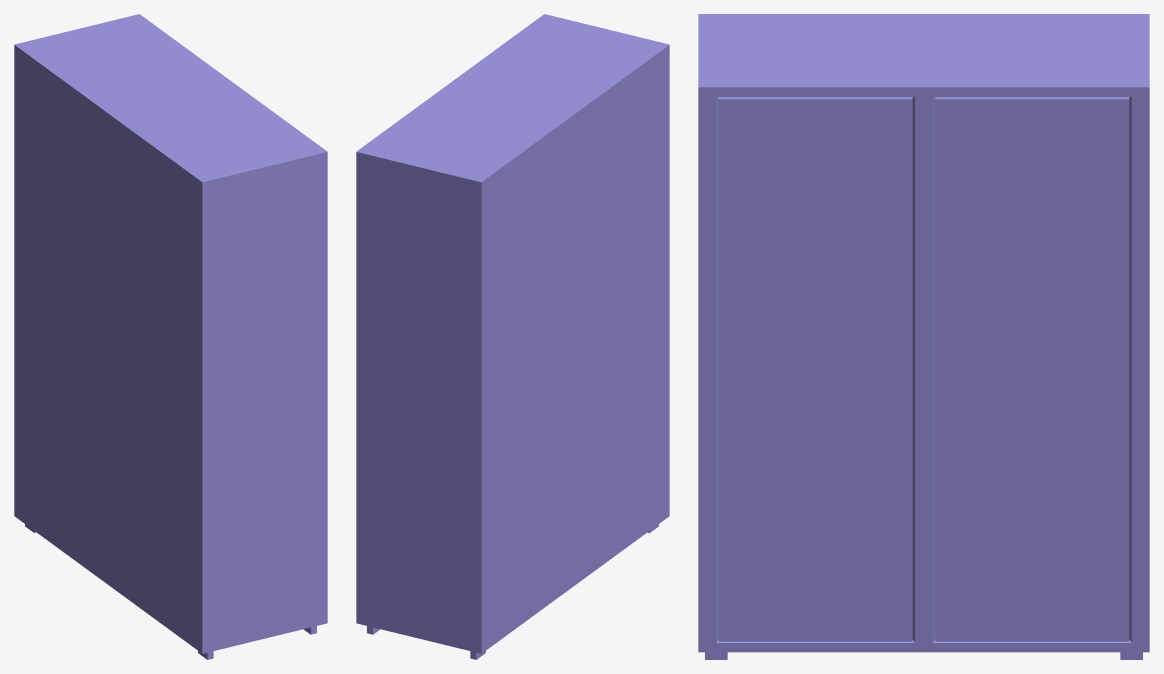
The model's file is warderobe.fbx.
3 renders of one model, left to right at view 1: azimuth 30°, elevation 25°; view 2: azimuth 150°, elevation 25°; view 3: azimuth 270°, elevation 25°, orthographic. The views are drawn at different scales.
Visible parts, largest first — view 1: szafa_r; view 2: szafa_r; view 3: szafa_r.
Part boxes in pixels (x1,y1,x2,y2): szafa_r: (14,14,327,659); szafa_r: (356,14,669,659); szafa_r: (698,14,1149,659).
Bounding box in the file's own units: 19.63 × 71.5 × 50.67.
